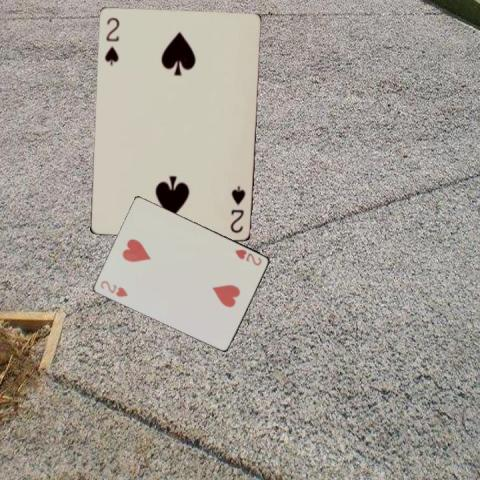2h: (232, 246, 263, 267), (98, 277, 129, 298)
2s: (228, 183, 248, 234), (102, 15, 121, 66)
